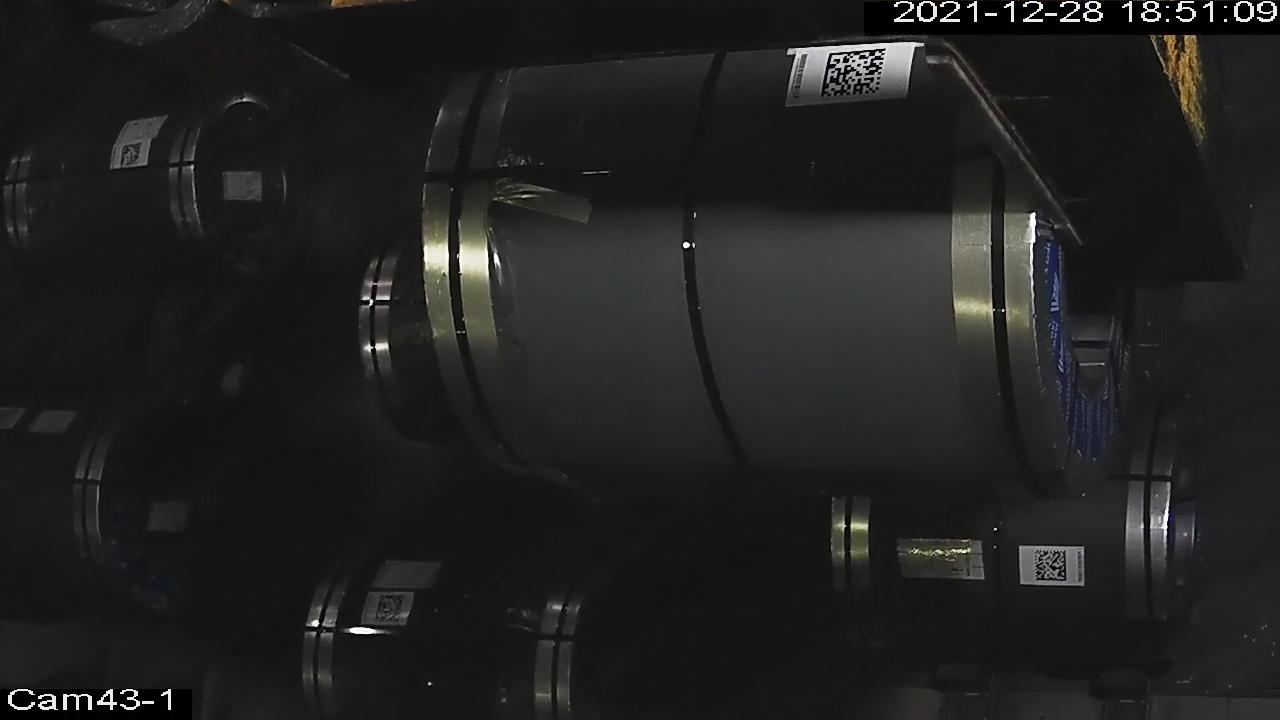data matrix: (818, 47, 890, 103), (1033, 548, 1070, 585), (374, 593, 408, 626), (118, 141, 145, 170)
